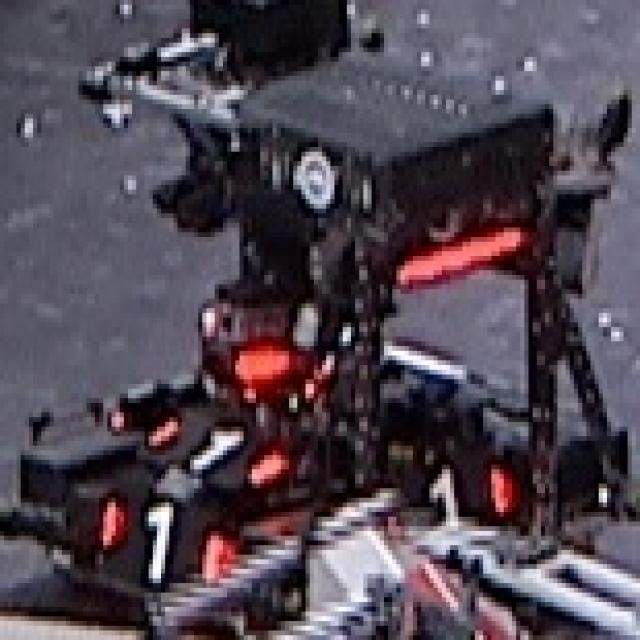R1: (95, 493, 231, 583), (144, 408, 285, 483), (388, 460, 508, 526)
